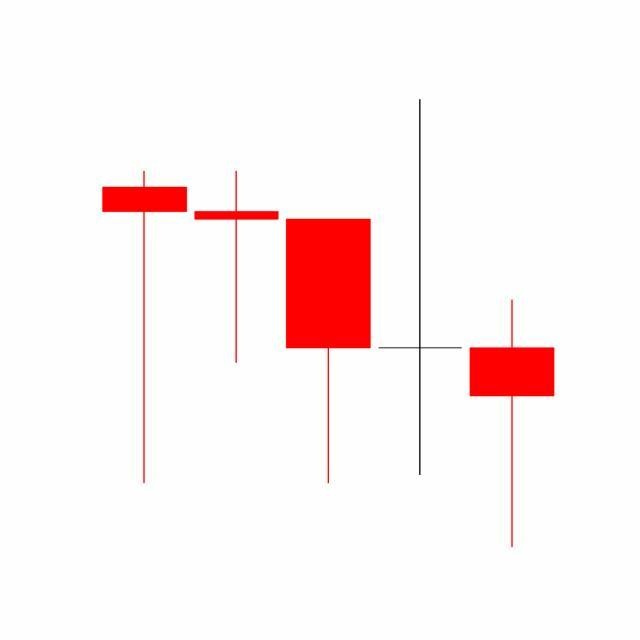Spinning Top: (374, 95, 468, 480)
